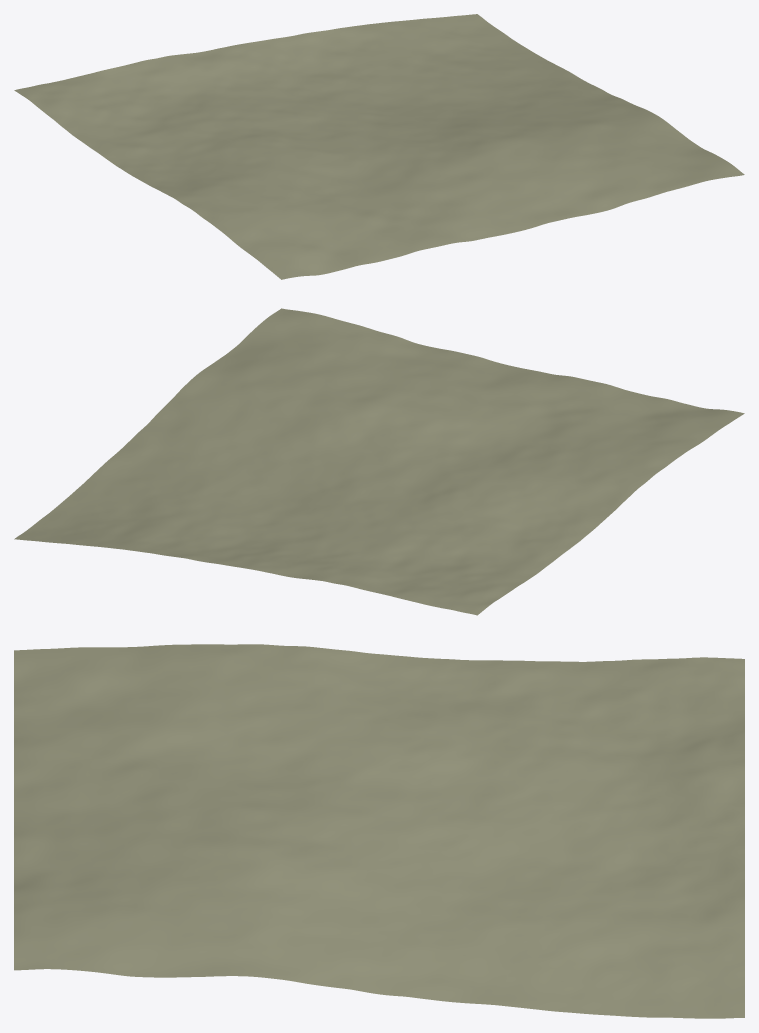
File: SM_VB_CityTerrain_10_6.fbx
3 views of the same model, one above another, from view 1: azimuth 30°, elevation 25°; view 2: azimuth 150°, elevation 25°; view 3: azimuth 270°, elevation 25° (orthographic). The views are drawn at different scales.
Visible parts, largest first — view 1: SM_VB_CityTerrain_10_6; view 2: SM_VB_CityTerrain_10_6; view 3: SM_VB_CityTerrain_10_6.
Part boxes in pixels (x1,y1,x2,y2): SM_VB_CityTerrain_10_6: (14,14,744,279); SM_VB_CityTerrain_10_6: (14,308,744,615); SM_VB_CityTerrain_10_6: (14,644,744,1018).
Bounding box in the file's own units: 600 × 60 × 600.
